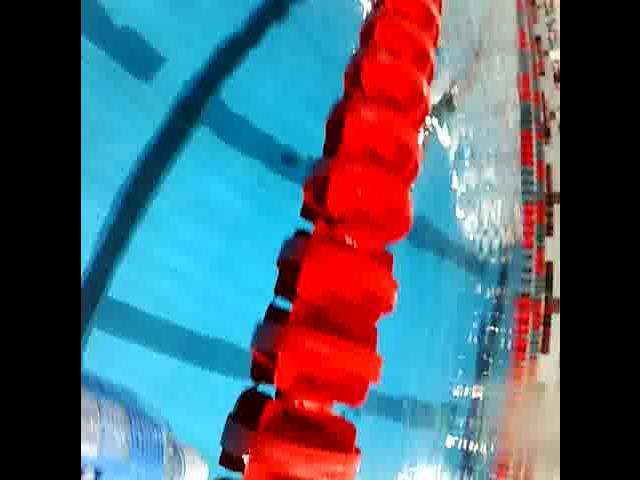Bottle: (80, 354, 216, 480)
